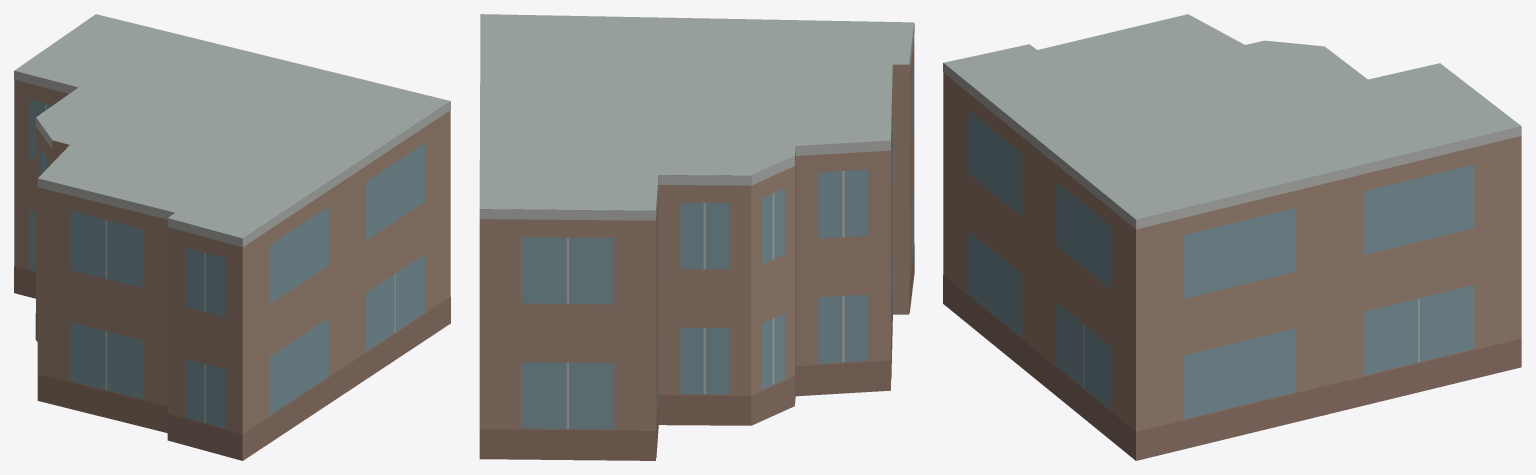
The model's file is survey-upis-32662335.glb.
The picture shows the model from 3 angles, left to right: view 1: azimuth 30°, elevation 25°; view 2: azimuth 150°, elevation 25°; view 3: azimuth 270°, elevation 25°; orthographic projection. The views are drawn at different scales.
Parts seen in each view (by area): view 1: survey-upis-32662335.tmp; view 2: survey-upis-32662335.tmp; view 3: survey-upis-32662335.tmp.
Part boxes in pixels (box(x1,y1,x2,y2)): survey-upis-32662335.tmp: box(14, 14, 450, 460); survey-upis-32662335.tmp: box(479, 14, 914, 460); survey-upis-32662335.tmp: box(943, 14, 1521, 460).
Size of the model in its own units: 11.18 by 6.1 by 13.27.
